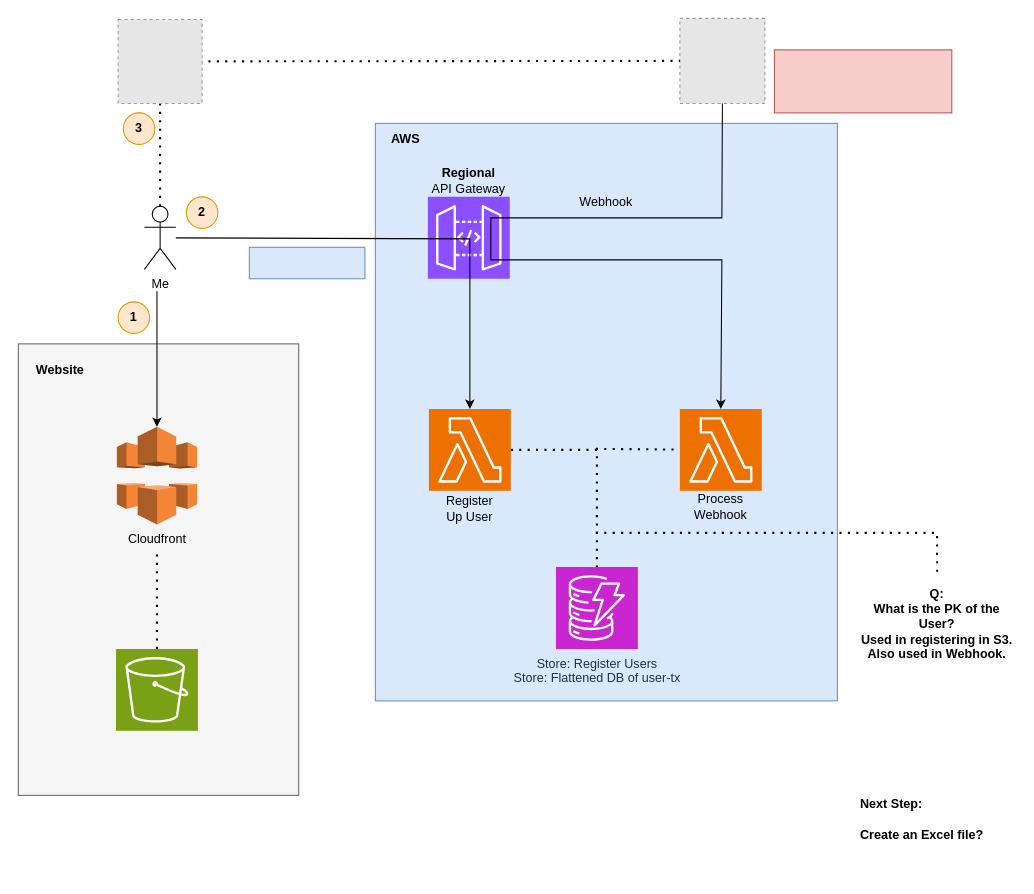
This 1034x894 diagram has some shape labels left out. Grey dashed boxes stand in for pictures. The shapes that lost their labels are listed below. From the top down, each one's centre as x and y in pixels, then its label:
point (862, 81): { Cost: 22.24, Category: "Food Delivery" }
point (306, 262): Input: Up Bank API Key
point (156, 689): S3 (Svelte Static)
